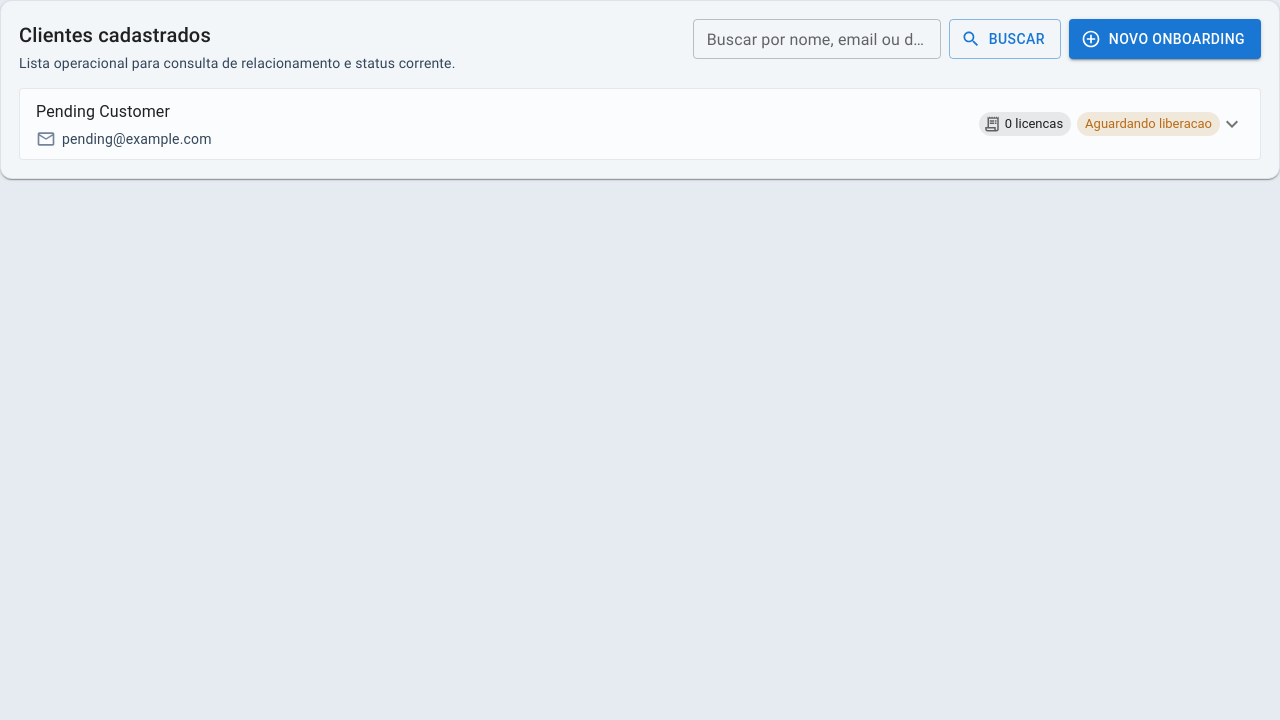
Test case: CustomersPanel › shows pending customers and prefills onboarding from the accordion CTA
Expected: the text "Aguardando liberacao" is shown, [1077, 114, 1220, 134]
Click the heading "Pending Customer": (103, 112) [36, 102, 170, 121]
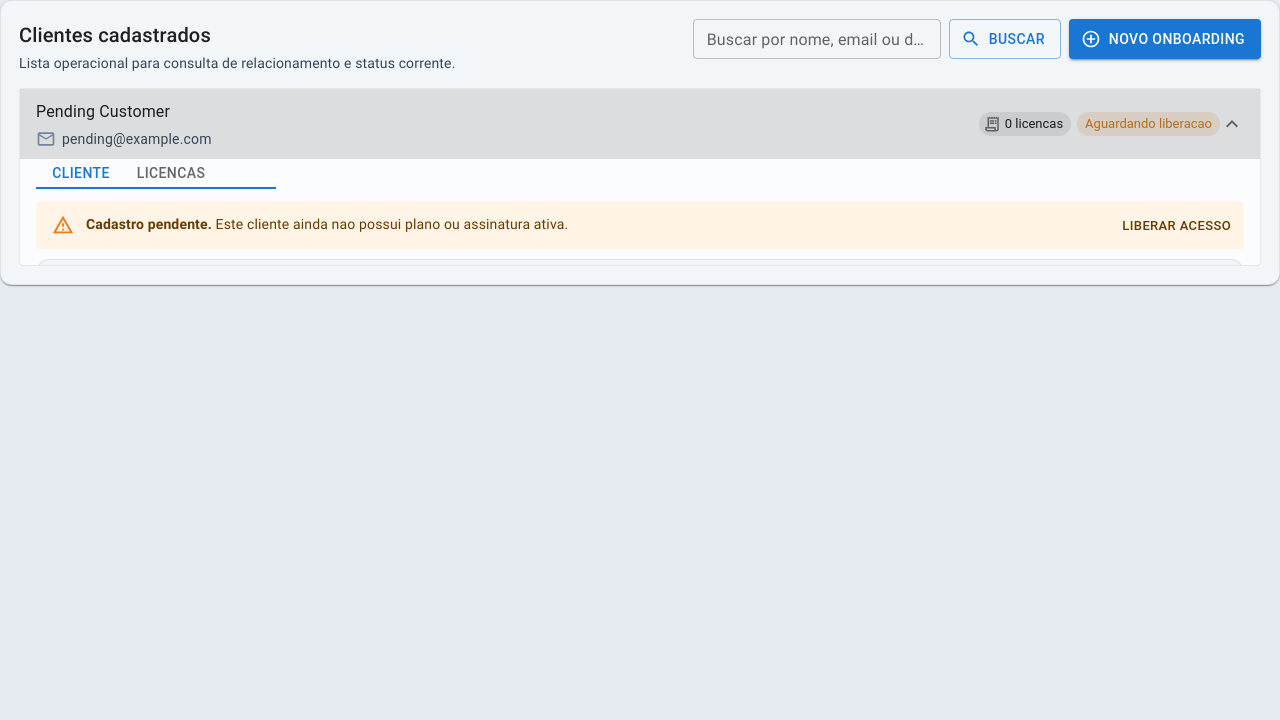
Now the text "Cadastro pendente." is shown, box [86, 217, 212, 233]
Click the button "Liberar acesso": (1177, 226) [1117, 211, 1236, 242]
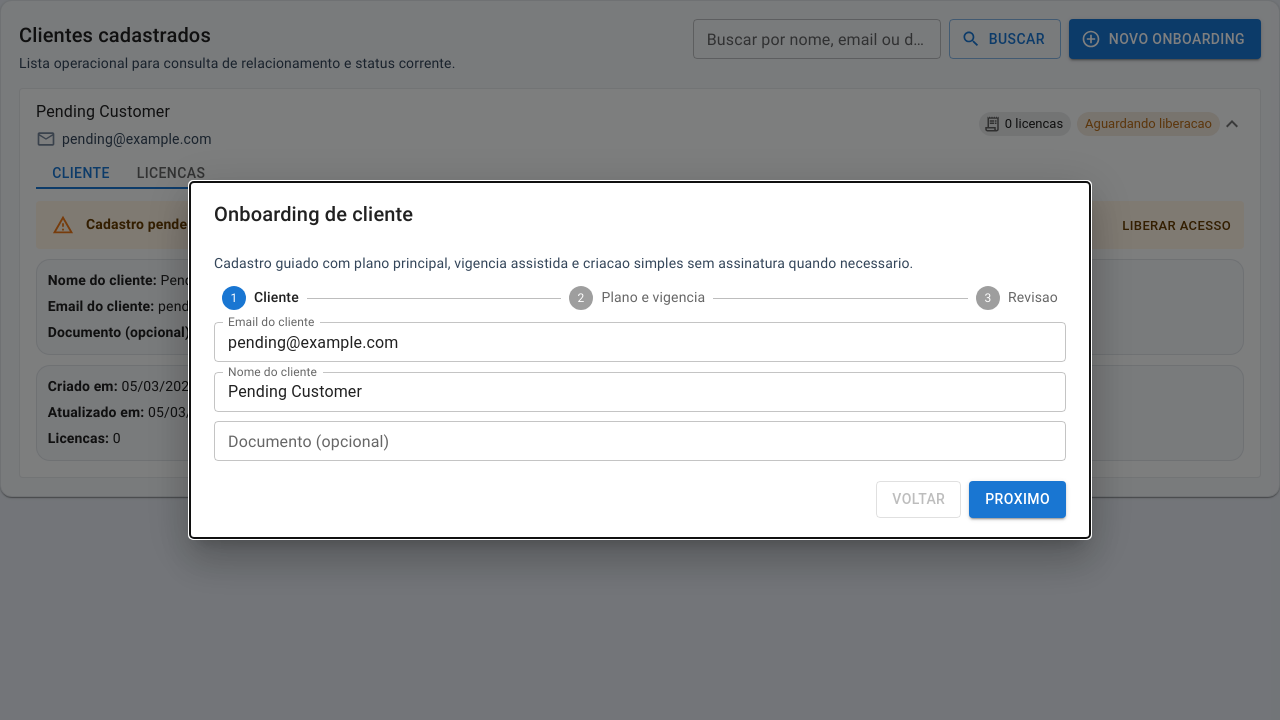
Now the dialog "Onboarding de cliente" is shown, box [190, 182, 1090, 538]
Now the field labelled "Email do cliente" holds "pending@example.com", box [214, 322, 1066, 362]
Now the field labelled "Nome do cliente" holds "Pending Customer", box [214, 372, 1066, 412]
